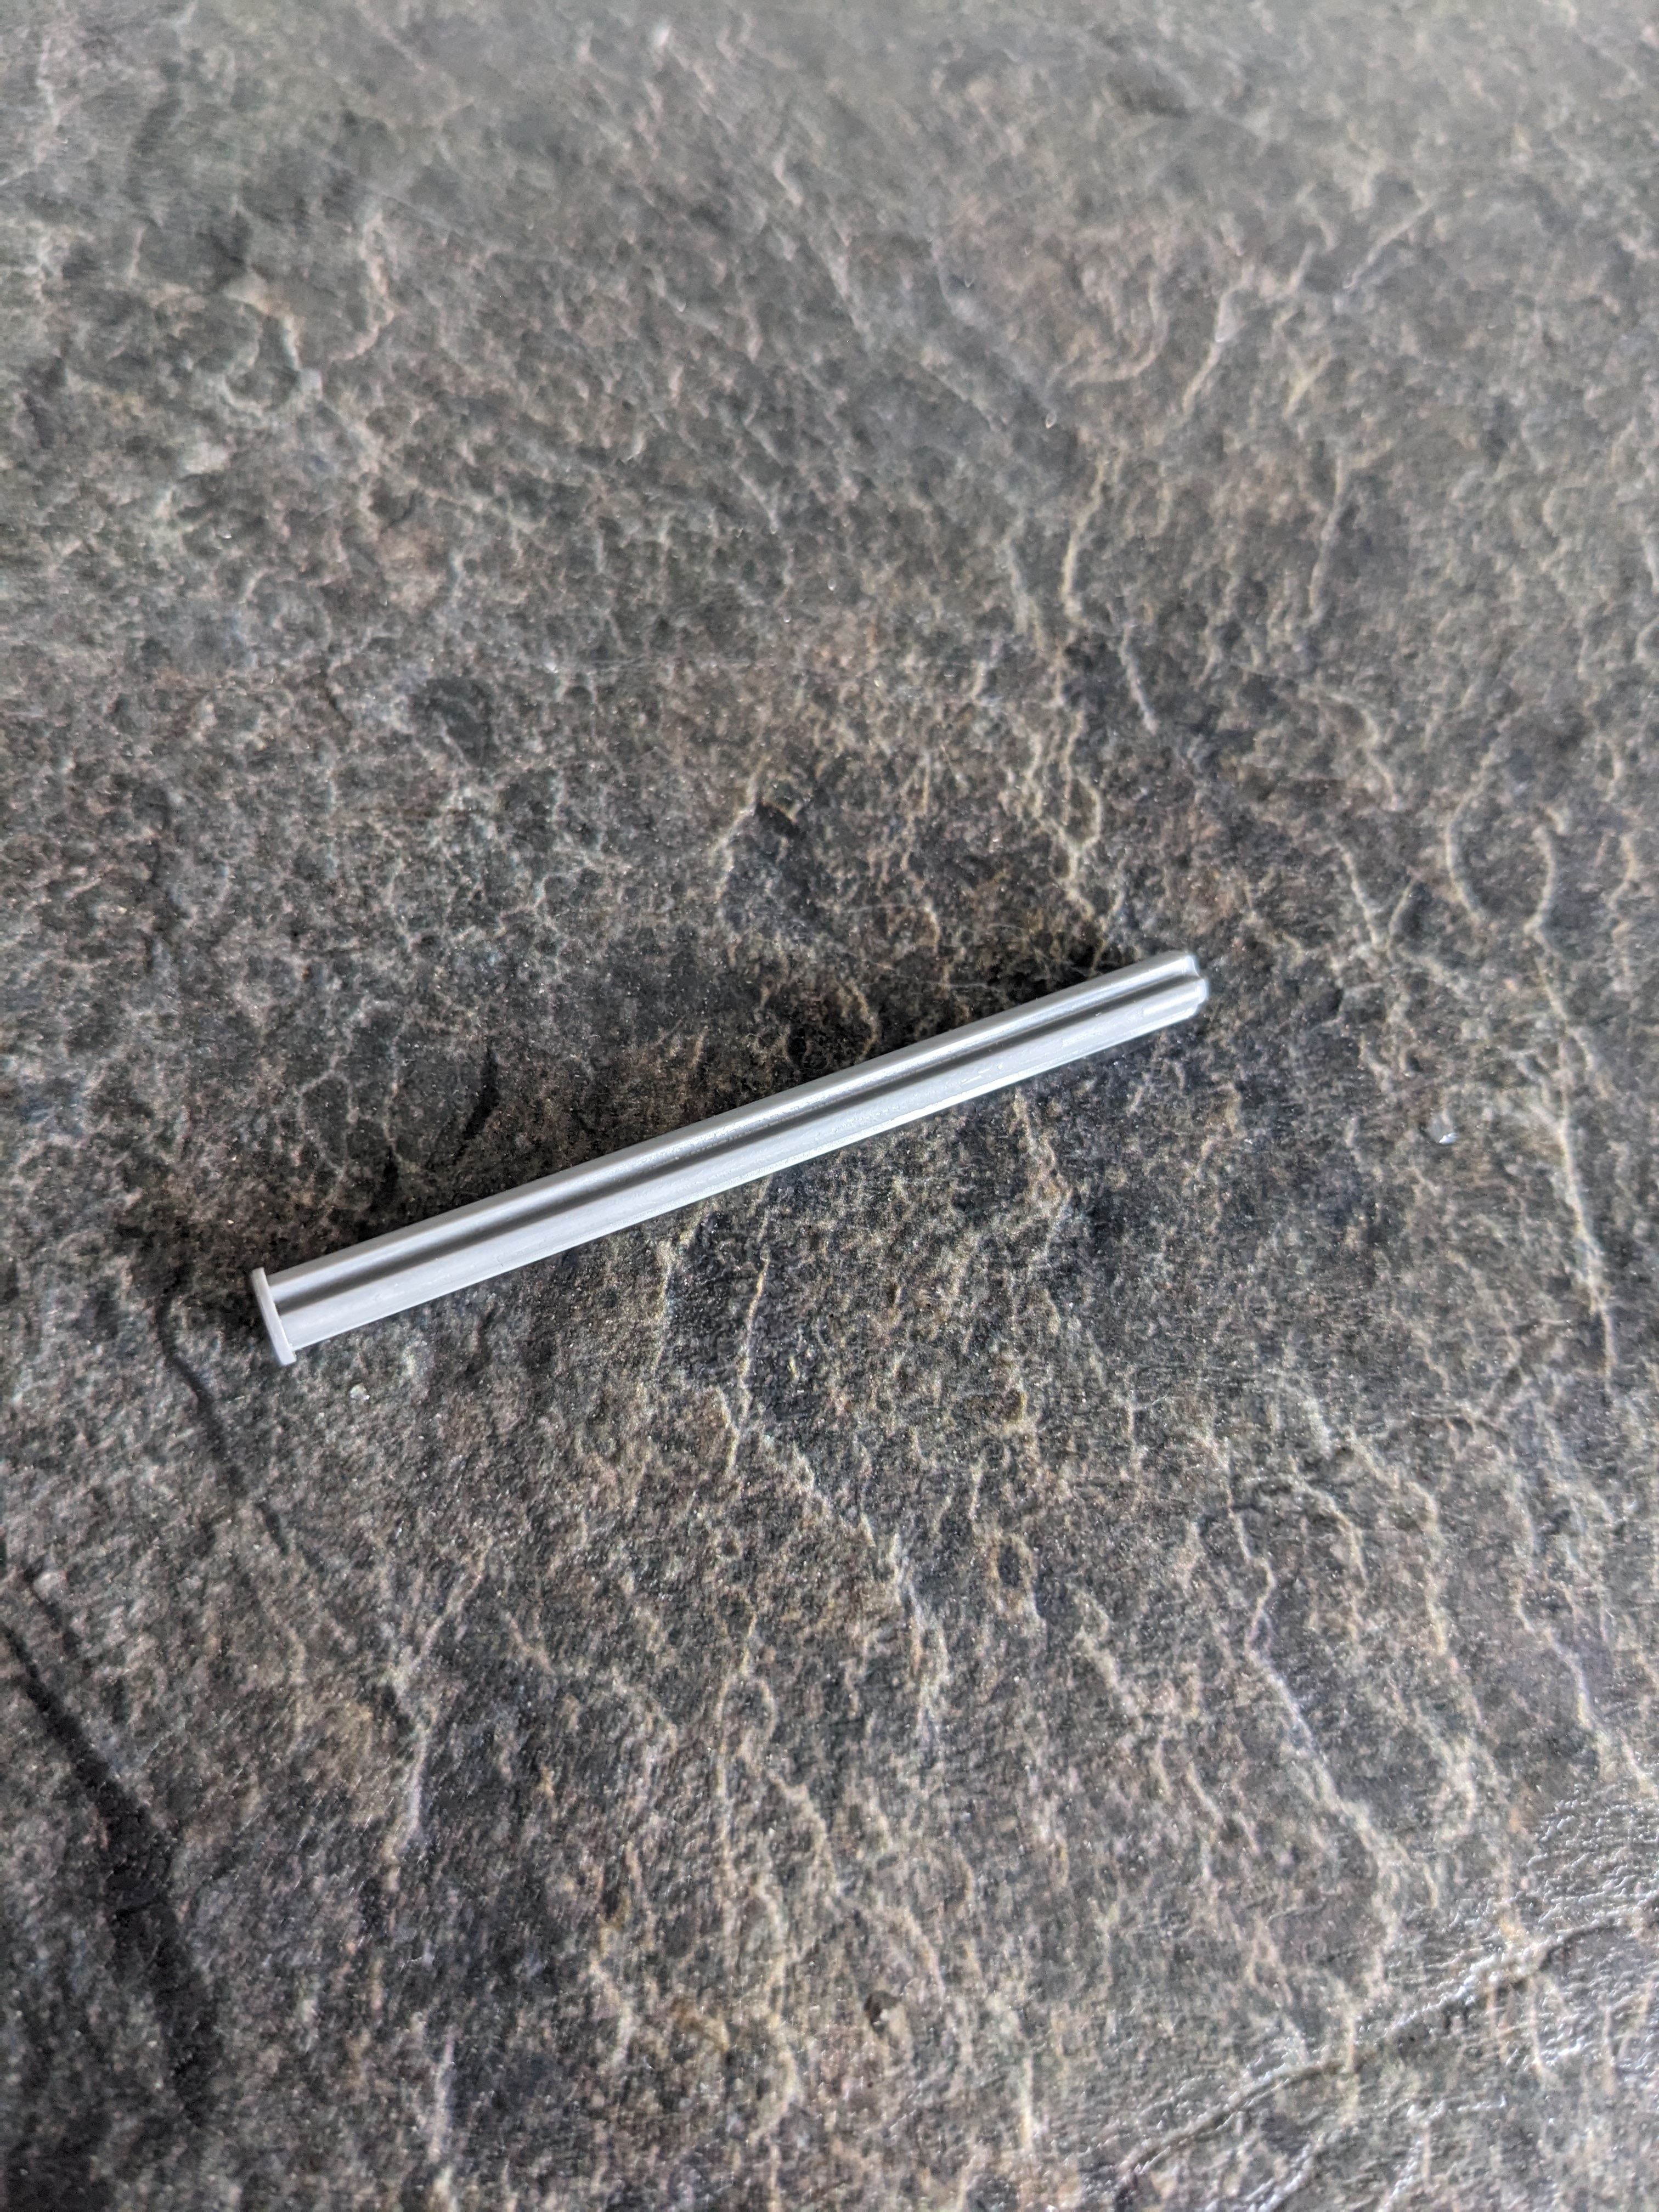Grau_lang: (220, 920, 1230, 1390)
